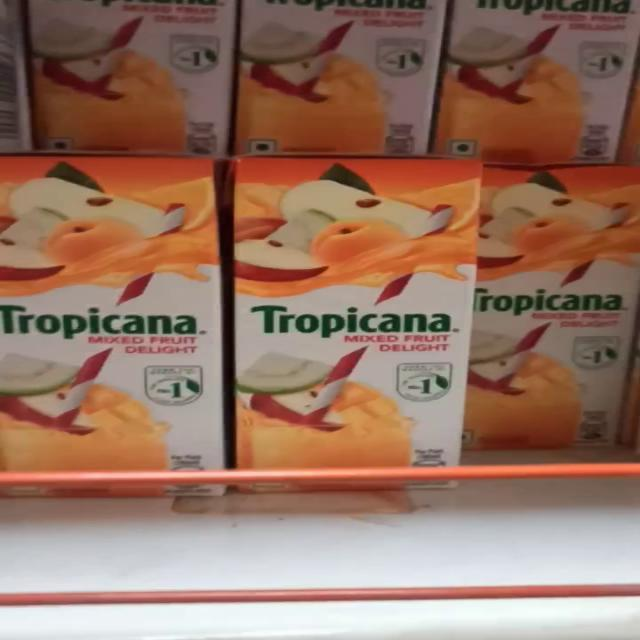Tropicana: (0, 156, 231, 497), (236, 151, 454, 497)
